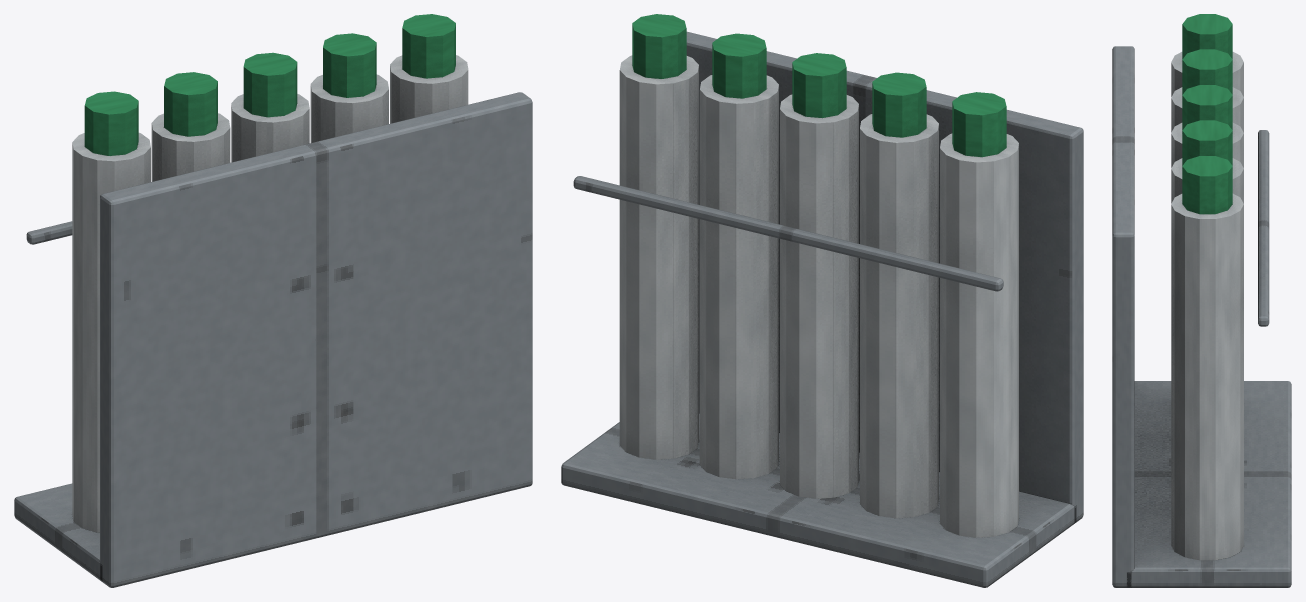
File: base_oxygen_rack.glb
The picture shows the model from 3 angles, left to right: view 1: azimuth 30°, elevation 25°; view 2: azimuth 150°, elevation 25°; view 3: azimuth 270°, elevation 25°; orthographic projection. The views are drawn at different scales.
Parts seen in each view (by area): view 1: base_oxygen_rack; view 2: base_oxygen_rack; view 3: base_oxygen_rack.
Boxes of the visible parts, x1=… form: base_oxygen_rack: x1=14, y1=14, x2=532, y2=587; base_oxygen_rack: x1=561, y1=14, x2=1083, y2=587; base_oxygen_rack: x1=1112, y1=14, x2=1291, y2=587.
Size of the model in its own units: 1.6 by 1.58 by 0.64.
Materials: 3 (3 with a texture image).
